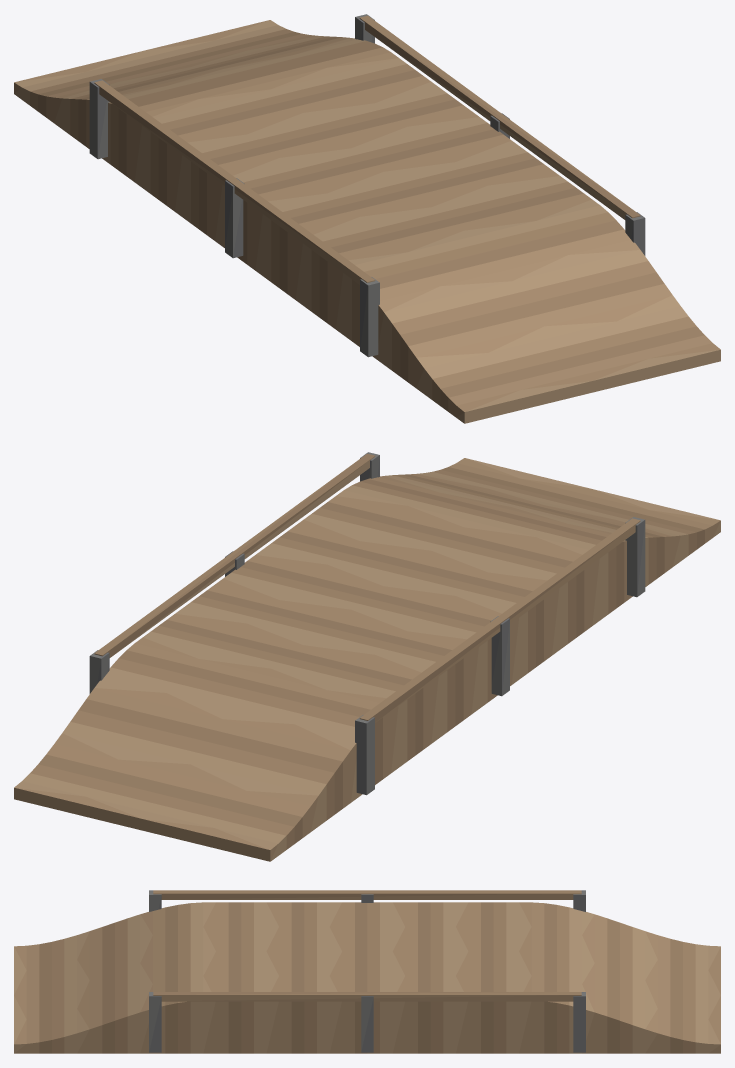
The model's file is 13_timber_bridge.glb.
3 renders of one model, top to bottom at view 1: azimuth 30°, elevation 25°; view 2: azimuth 150°, elevation 25°; view 3: azimuth 270°, elevation 25°, orthographic. The views are drawn at different scales.
Visible parts, largest first — view 1: ObstacleMesh; view 2: ObstacleMesh; view 3: ObstacleMesh.
Part boxes in pixels (x1,y1,x2,y2): ObstacleMesh: (14, 14, 720, 423); ObstacleMesh: (14, 452, 720, 861); ObstacleMesh: (14, 890, 720, 1053).
Size of the model in its own units: 4.97 by 1.35 by 14.
